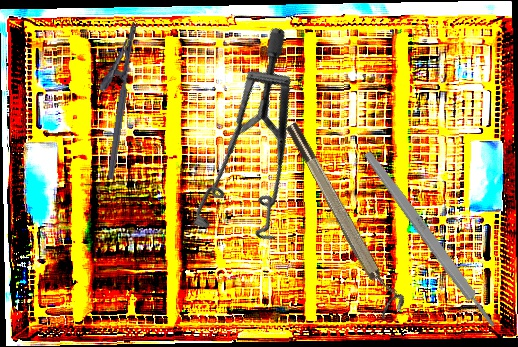Fixation Ring: (282, 115, 409, 320)
Needle Holder: (84, 18, 140, 180)
Scalpel Handle: (361, 149, 499, 330)
Speculum: (132, 24, 384, 273)
